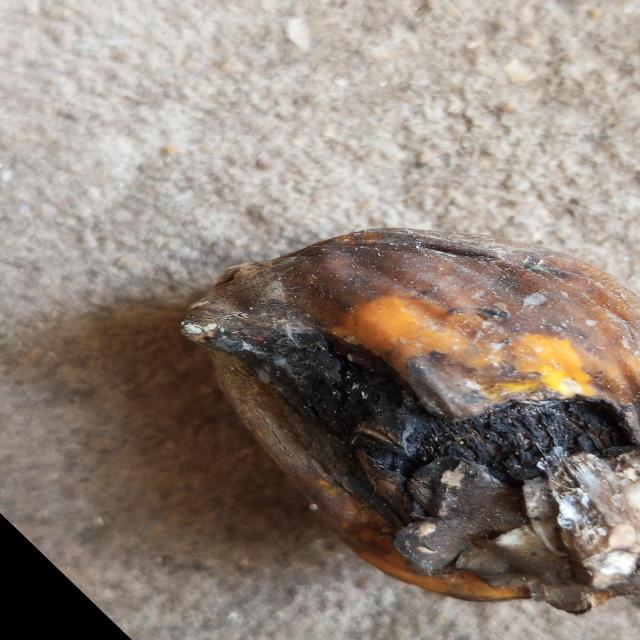damaged: (182, 229, 640, 613)
